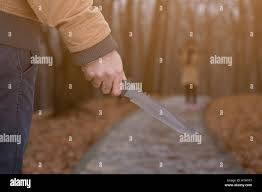knife: (109, 71, 201, 135)
